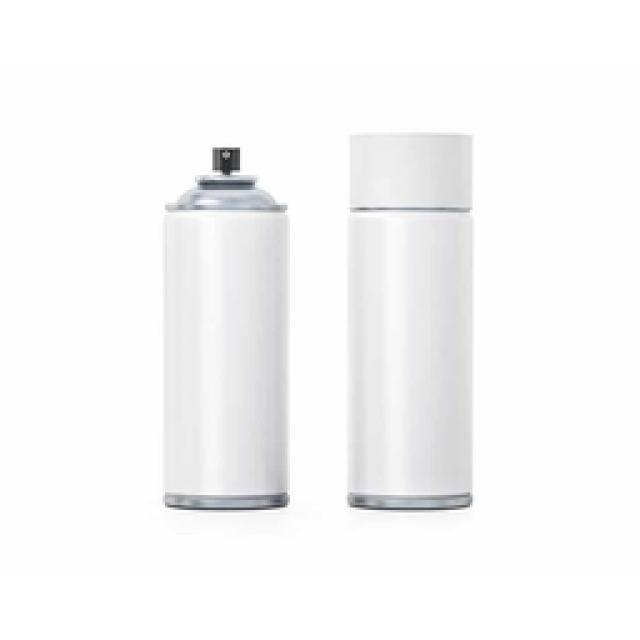B3: (165, 142, 292, 516)
